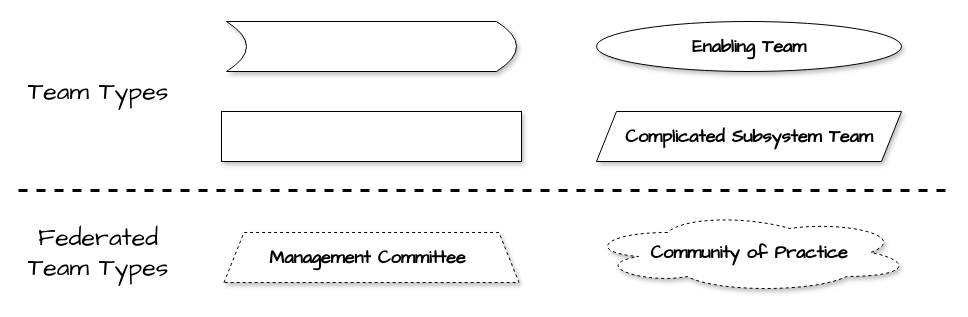
This 968x317 diagram has some shape labels left out. The centre of each missing label's shape, as x and y in pixels:
"Platform Team" belongs at [372,137].
"Stream-aligned team" belongs at [372,47].
